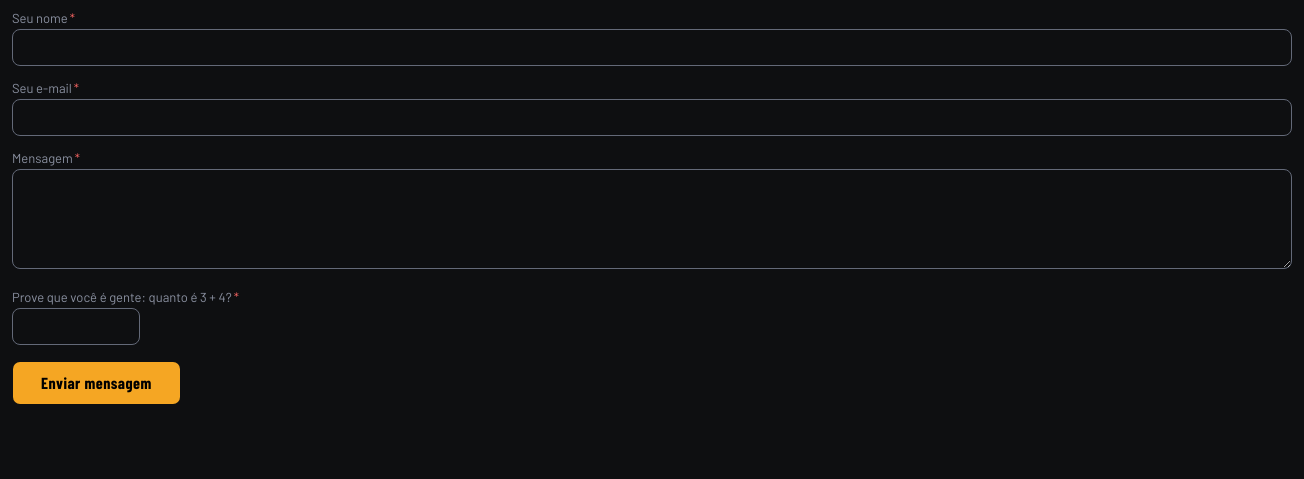
Test: formulário de contato › limite de tentativas orienta a usar o WhatsApp
Step 1. Type "Ana Souza" into the field labelled "Seu nome *" → point(652, 48), box [12, 29, 1292, 66]
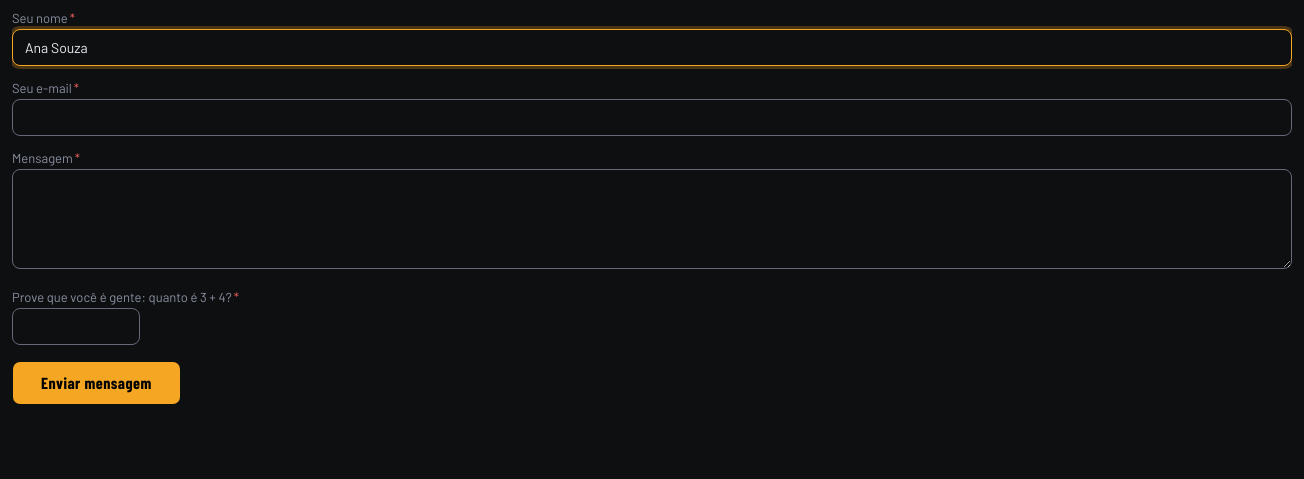
Step 2. Type "ana@exemplo.com" into the field labelled "Seu e-mail *" → point(652, 118), box [12, 99, 1292, 136]
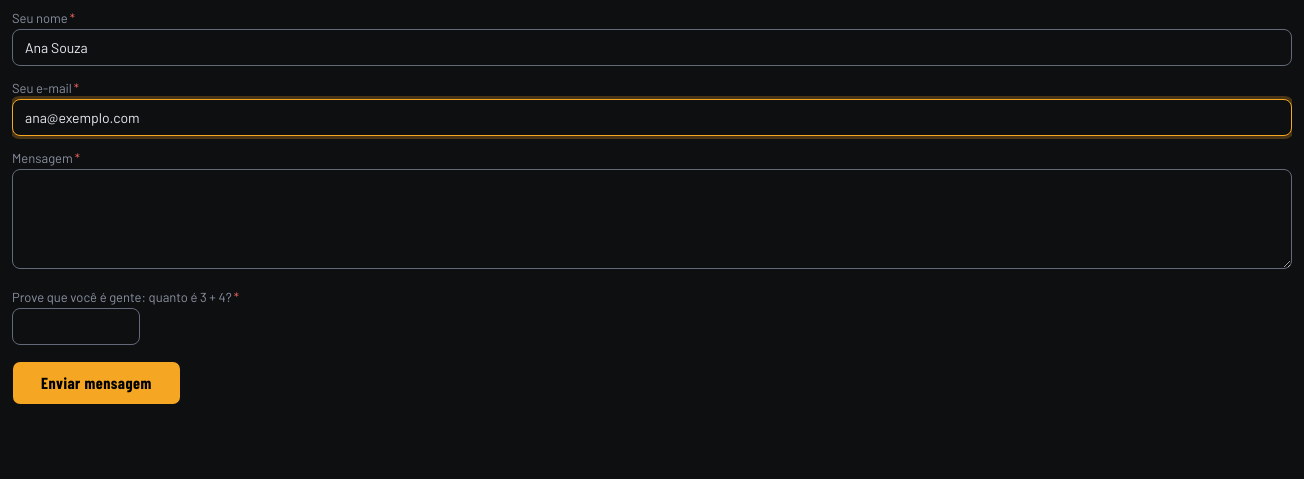
Step 3. Type "Quero conhecer." into the text box labelled "Mensagem *" → point(652, 219), box [12, 169, 1292, 269]
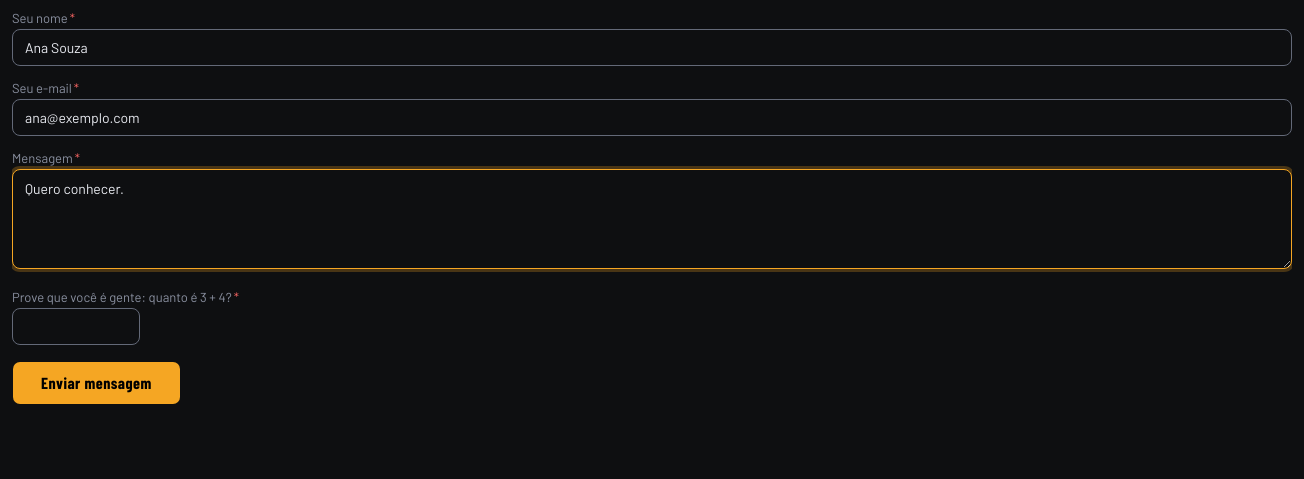
Step 4. Type "7" into the field labelled "Prove que você é gente: quanto é 3 + 4? *" → point(76, 326), box [12, 308, 140, 345]
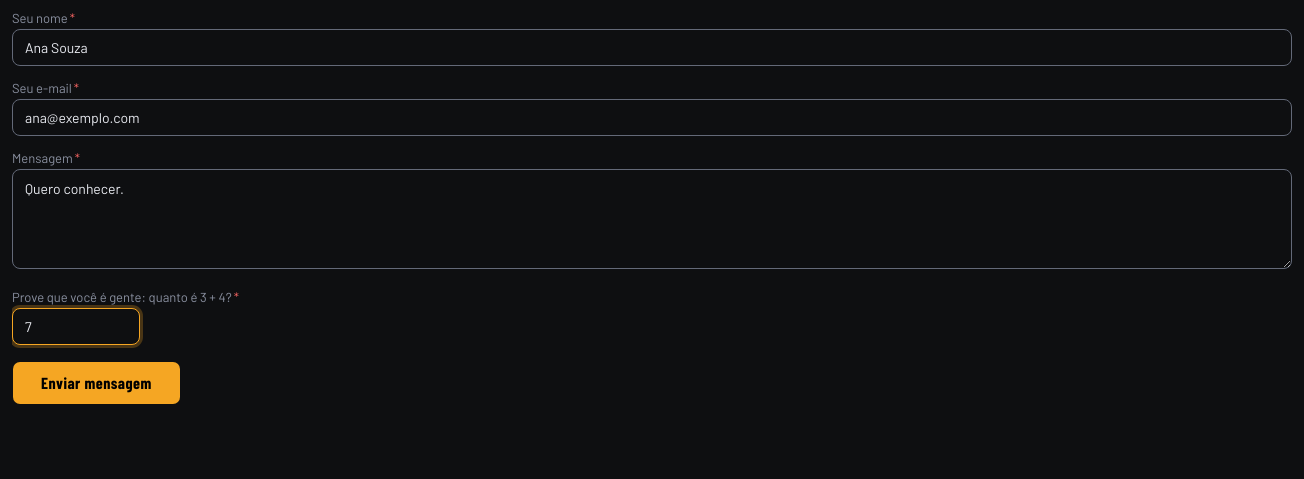
Step 5. Click the button "Enviar mensagem" → point(96, 383), box [12, 361, 181, 405]
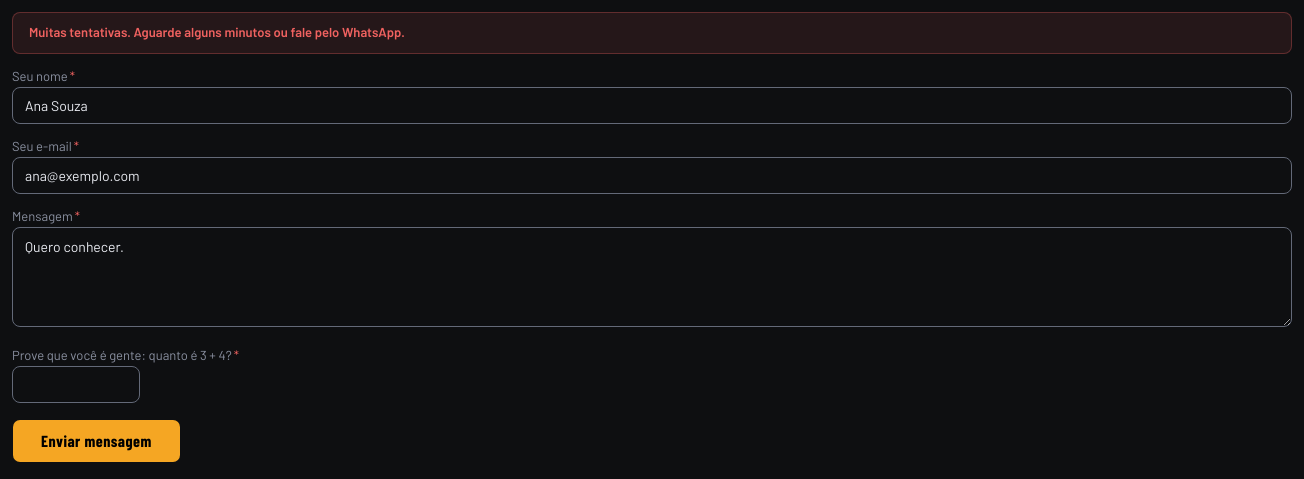
Now the text "Muitas tentativas" is shown, box [29, 24, 405, 40]
